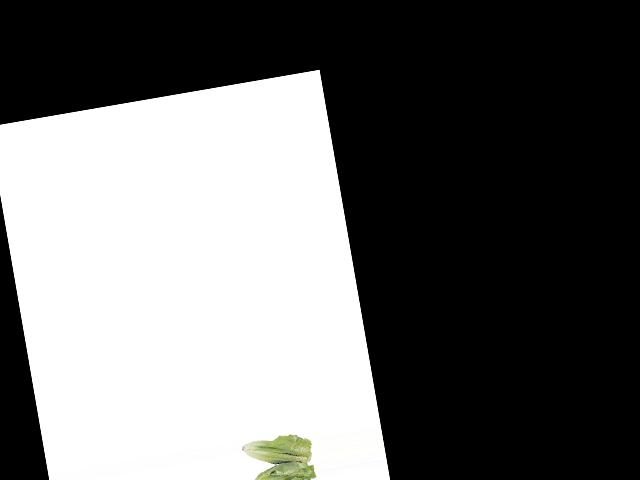lettuce: (239, 427, 318, 480)
